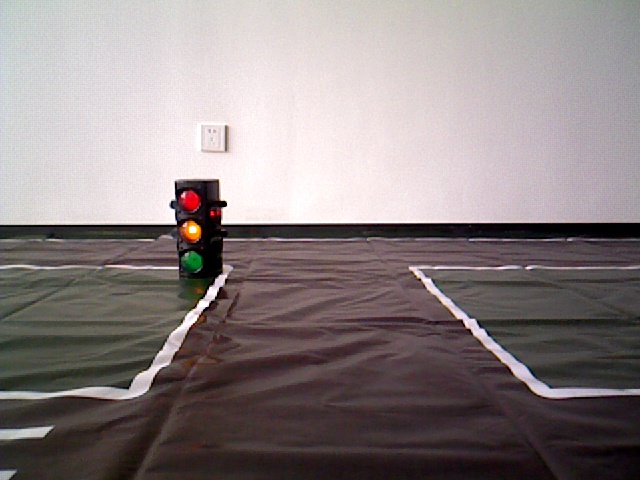yellow: (173, 178, 221, 280)
